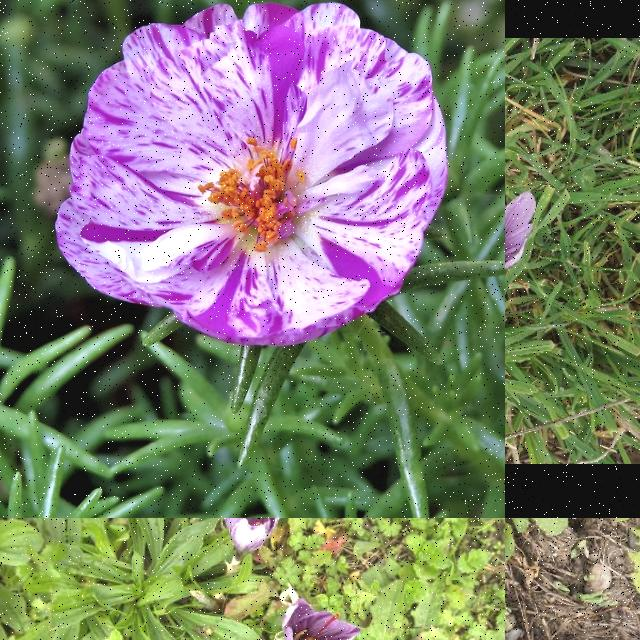flower: (282, 597, 364, 640), (505, 187, 537, 296), (222, 518, 286, 556)
